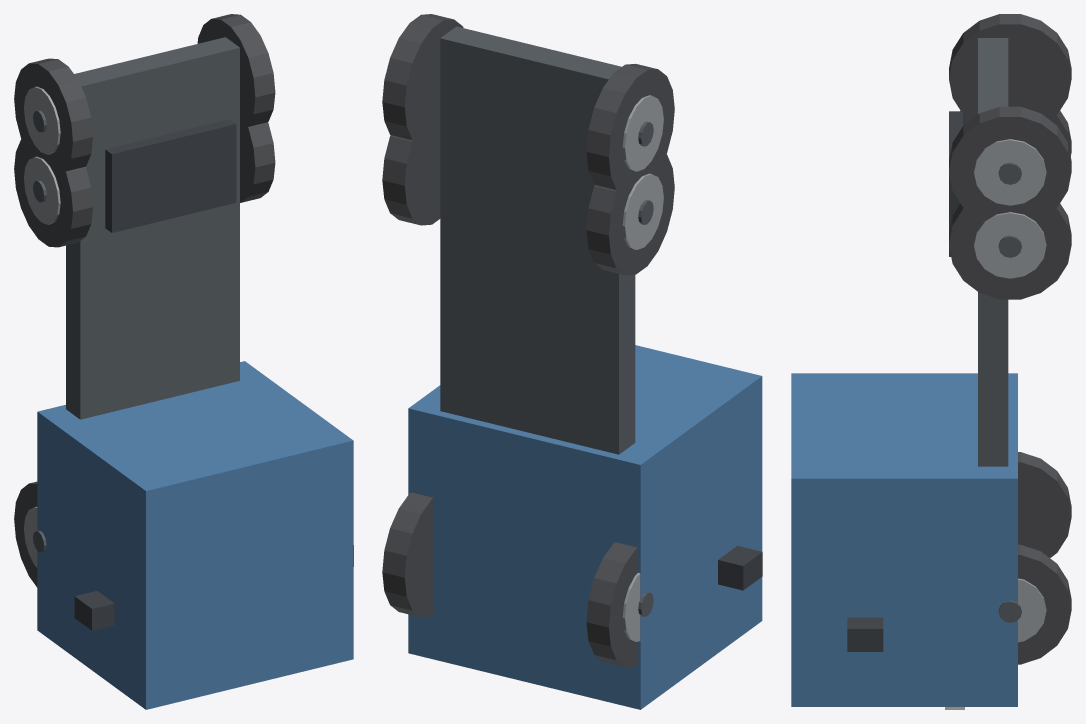
The model's file is semi_tractor_truck.glb.
The picture shows the model from 3 angles, left to right: view 1: azimuth 30°, elevation 25°; view 2: azimuth 150°, elevation 25°; view 3: azimuth 270°, elevation 25°; orthographic projection. The views are drawn at different scales.
Parts seen in each view (by area): view 1: 0001_Cab_body, 0000_Truck_chassis, 0008_Fifth_wheel, 0021_Wheel_tire, 0015_Wheel_tire, 0024_Wheel_tire, 0018_Wheel_tire, 0016_Wheel_rim, 0022_Wheel_rim, 0006_Side_mirror, 0009_Wheel_tire, 0010_Wheel_rim; view 2: 0001_Cab_body, 0000_Truck_chassis, 0024_Wheel_tire, 0021_Wheel_tire, 0015_Wheel_tire, 0012_Wheel_tire, 0018_Wheel_tire, 0009_Wheel_tire, 0016_Wheel_rim, 0022_Wheel_rim, 0006_Side_mirror, 0010_Wheel_rim; view 3: 0001_Cab_body, 0021_Wheel_tire, 0024_Wheel_tire, 0000_Truck_chassis, 0018_Wheel_tire, 0009_Wheel_tire, 0012_Wheel_tire, 0025_Wheel_rim, 0019_Wheel_rim, 0013_Wheel_rim, 0007_Side_mirror, 0015_Wheel_tire (+1 smaller).
Part boxes in pixels (x1,y1,x2,y2): 0001_Cab_body: (37,361,353,709); 0000_Truck_chassis: (66,37,239,419); 0008_Fifth_wheel: (105,119,236,232); 0021_Wheel_tire: (14,58,92,177); 0015_Wheel_tire: (14,133,92,247); 0024_Wheel_tire: (197,14,275,132); 0018_Wheel_tire: (240,110,275,202); 0016_Wheel_rim: (24,156,60,224); 0022_Wheel_rim: (24,86,60,154); 0006_Side_mirror: (74,591,114,630); 0009_Wheel_tire: (14,481,37,587); 0010_Wheel_rim: (24,506,37,567); 0001_Cab_body: (408,345,762,709); 0000_Truck_chassis: (440,26,635,454); 0024_Wheel_tire: (382,14,463,146); 0021_Wheel_tire: (586,63,674,196); 0015_Wheel_tire: (586,148,674,275); 0012_Wheel_tire: (382,492,433,617); 0018_Wheel_tire: (382,102,440,225); 0009_Wheel_tire: (586,542,637,667); 0016_Wheel_rim: (622,173,663,249); 0022_Wheel_rim: (622,95,663,171); 0006_Side_mirror: (718,545,762,590); 0010_Wheel_rim: (622,572,640,641); 0001_Cab_body: (791,373,1017,706); 0021_Wheel_tire: (949,14,1071,117); 0024_Wheel_tire: (949,106,1071,221); 0000_Truck_chassis: (978,38,1008,466); 0018_Wheel_tire: (949,195,1071,299); 0009_Wheel_tire: (1018,452,1071,557); 0012_Wheel_tire: (1018,544,1071,664); 0025_Wheel_rim: (974,139,1046,205); 0019_Wheel_rim: (974,212,1046,278); 0013_Wheel_rim: (1018,578,1046,642); 0007_Side_mirror: (847,617,883,651); 0015_Wheel_tire: (960,97,1071,156).
Bounding box in the file's own units: 3.13 × 6.53 × 2.79.
